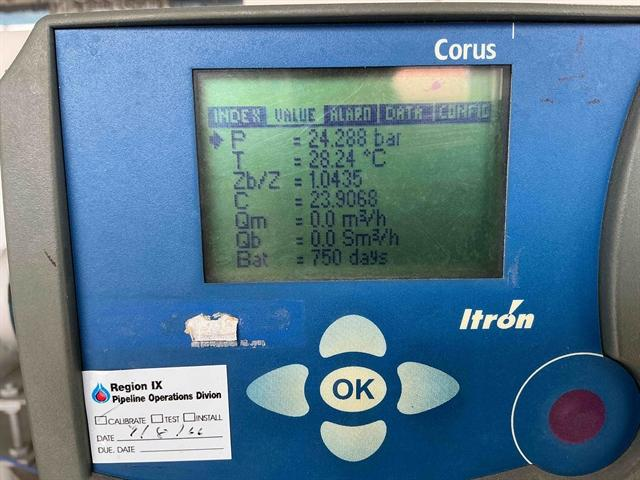digital_screen: (192, 65, 515, 282)
